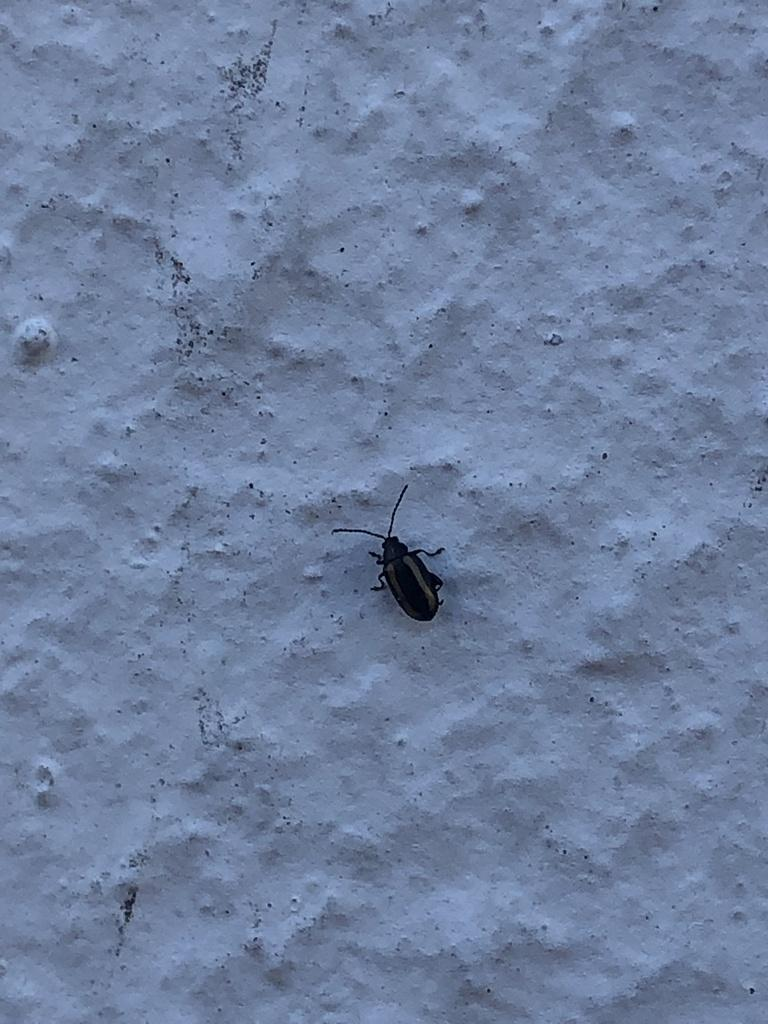flea_beetle: (301, 454, 491, 669)
